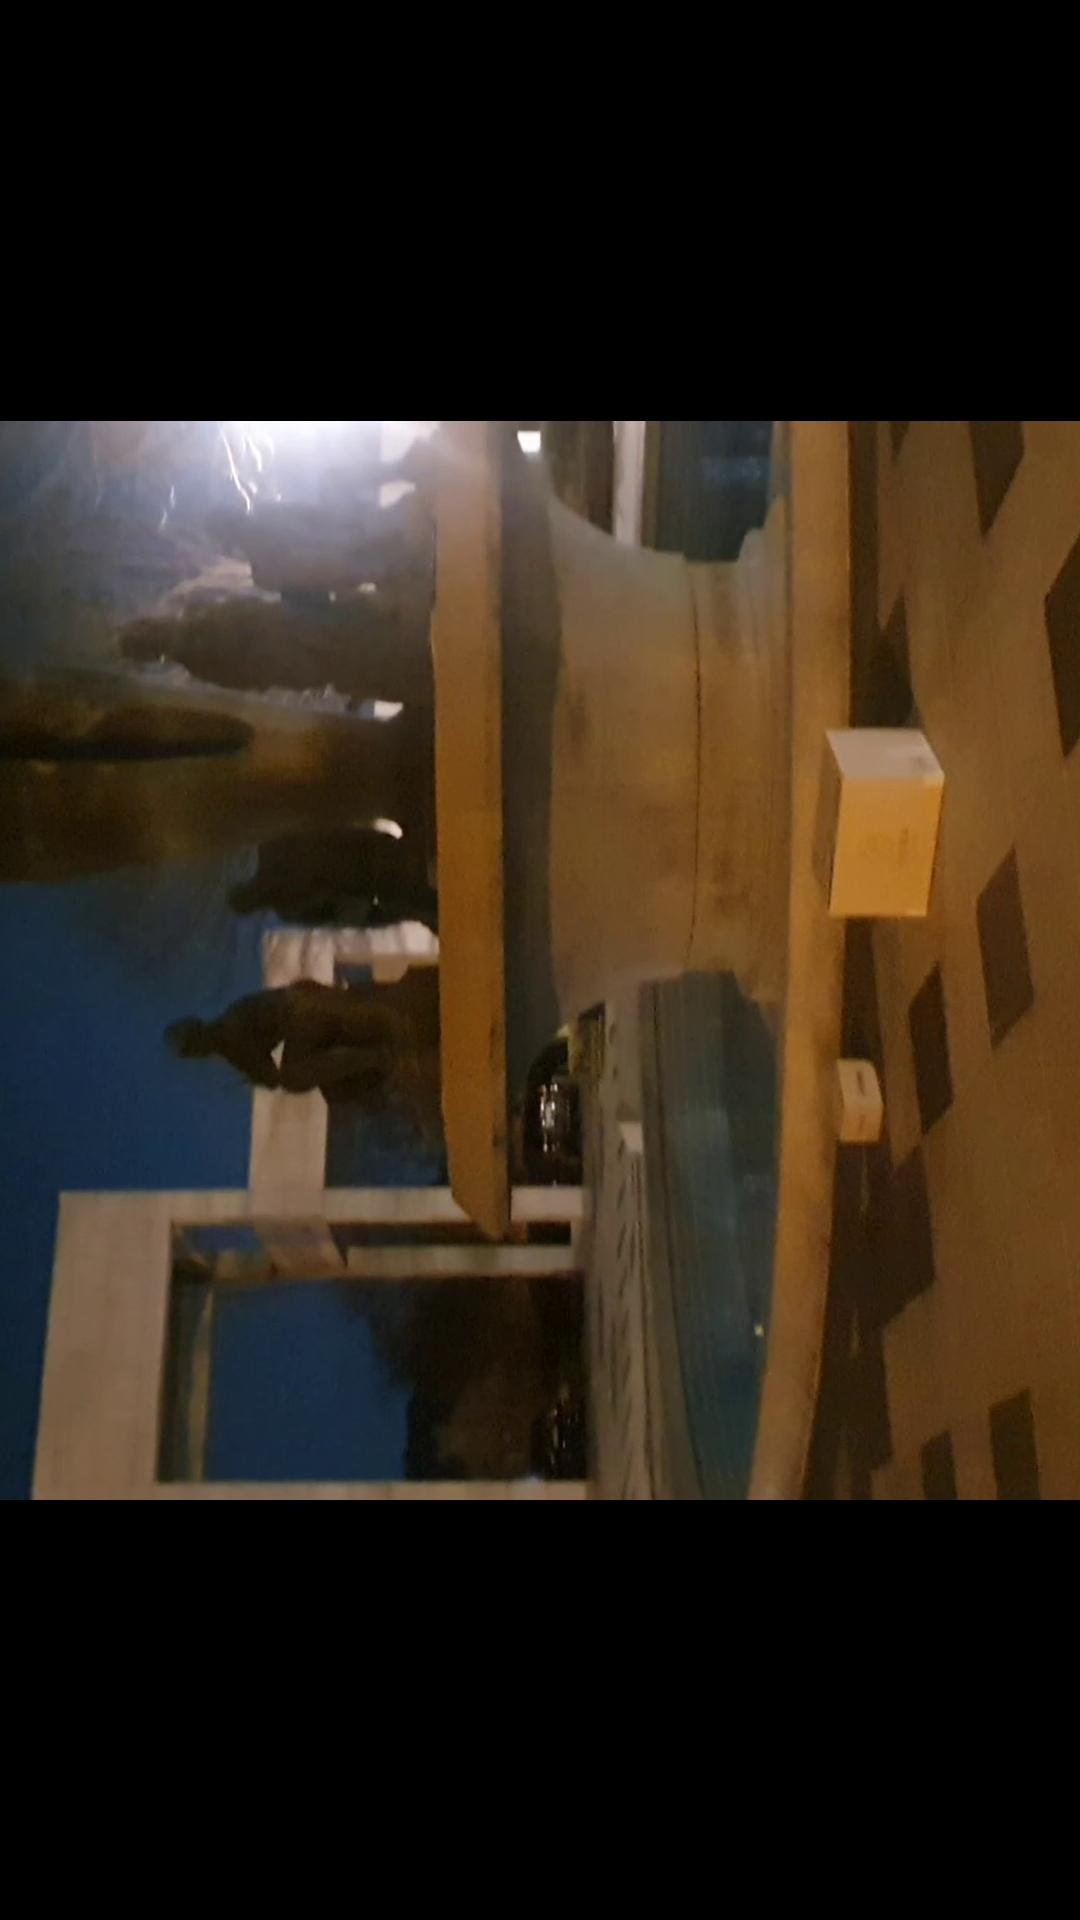Box: (781, 717, 967, 932), (808, 1027, 910, 1174)
